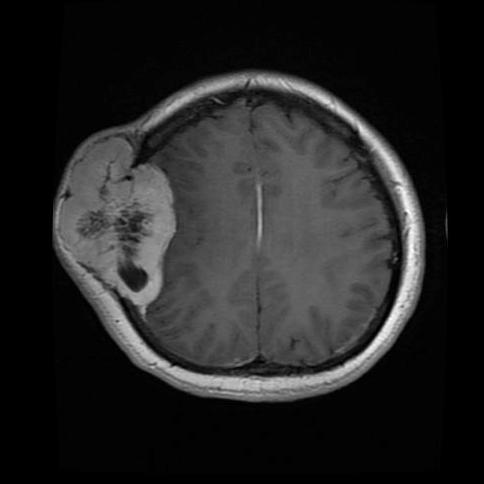Tumour-Meningioma: (40, 122, 197, 326)
